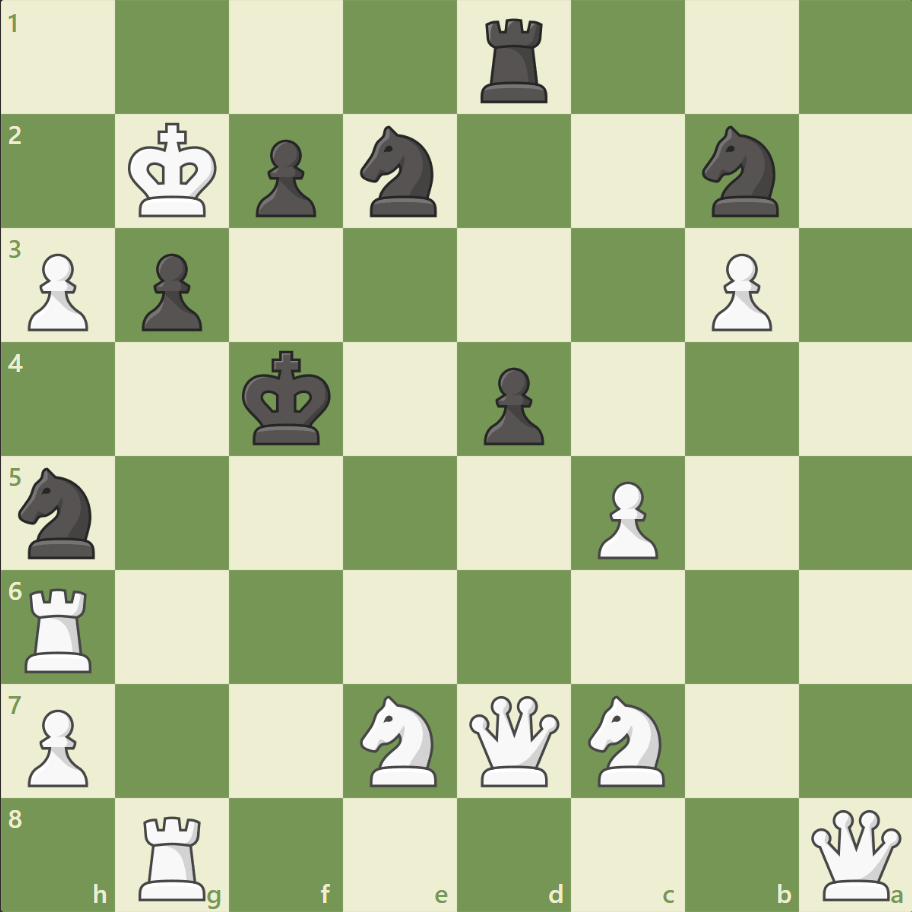K: (124, 117, 224, 225)
N: (351, 688, 449, 791), (579, 688, 676, 791)
P: (20, 700, 95, 791), (701, 246, 776, 337), (20, 246, 95, 337), (588, 473, 662, 564)
Q: (805, 804, 904, 903), (464, 690, 563, 789)
R: (19, 579, 102, 676), (133, 806, 215, 904)
k: (238, 344, 338, 452)
n: (351, 121, 449, 223), (11, 461, 108, 564), (692, 121, 789, 223)
p: (474, 359, 549, 450), (133, 246, 208, 337), (247, 132, 322, 223)
r: (473, 12, 556, 109)
